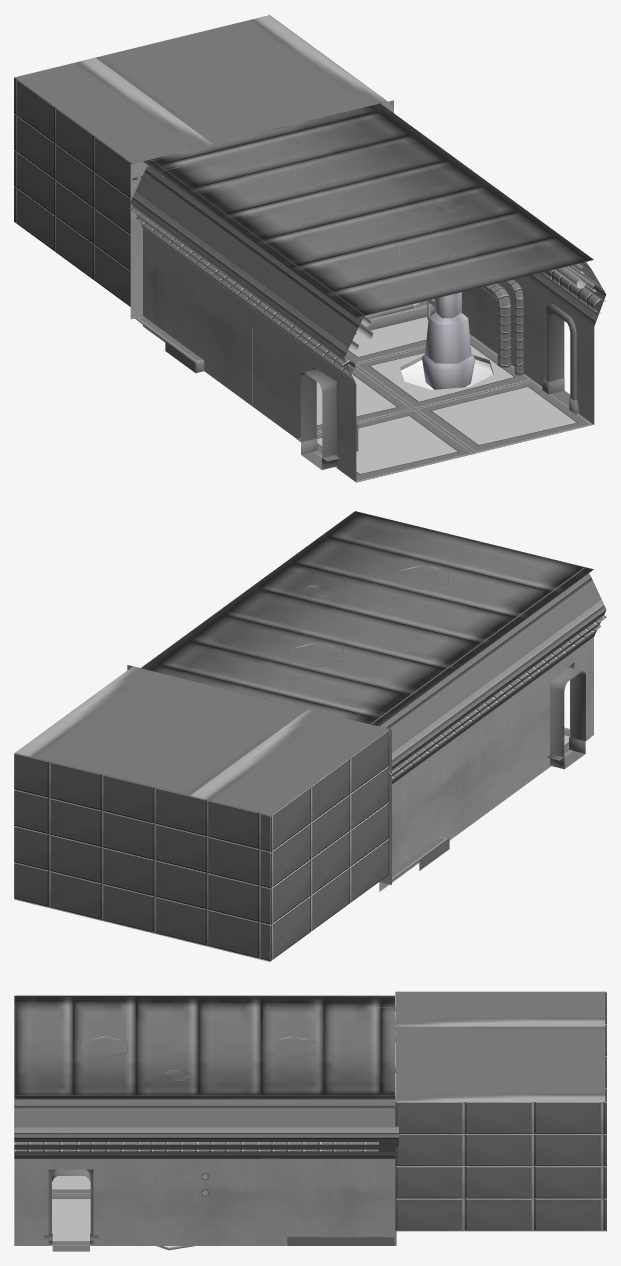
The model's file is MSH_Power_Plant_room_L2_R1_optimized.fbx.
3 views of the same model, one above another, from view 1: azimuth 30°, elevation 25°; view 2: azimuth 150°, elevation 25°; view 3: azimuth 270°, elevation 25° (orthographic). The views are drawn at different scales.
Visible parts, largest first — view 1: lightmap1, lightmap0, lightmap-1, MSH_Power_Plant_room_ani01 1; view 2: lightmap1, lightmap-1, lightmap0; view 3: lightmap1, lightmap0, lightmap-1.
Boxes of the visible parts, x1,y1,x2,y2 form: lightmap1: (14,14,606,482); lightmap0: (106,122,606,451); lightmap-1: (300,311,570,469); MSH_Power_Plant_room_ani01 1: (421,199,475,389); lightmap1: (14,511,606,961); lightmap-1: (550,667,585,769); lightmap0: (272,615,606,814); lightmap1: (14,991,606,1250); lightmap0: (14,1005,395,1196); lightmap-1: (52,1169,90,1251).
Size of the model in its own units: 10.33 by 6.66 by 22.55.
